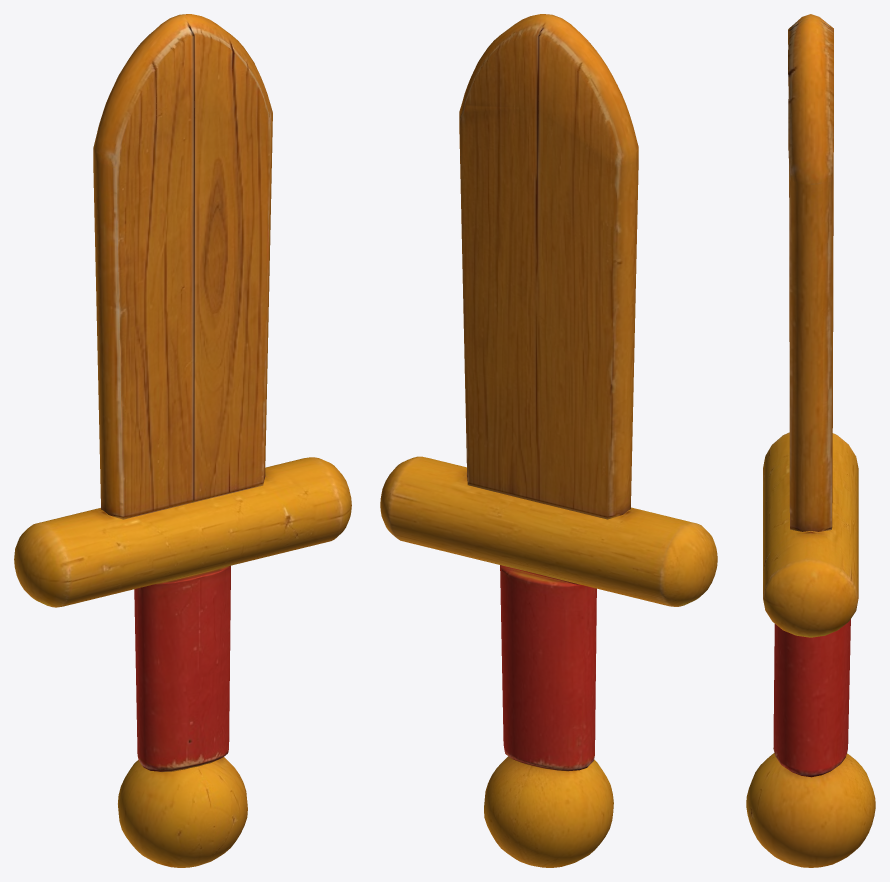
Rendered from Weapon_Sword.glb.
The picture shows the model from 3 angles, left to right: view 1: azimuth 30°, elevation 25°; view 2: azimuth 150°, elevation 25°; view 3: azimuth 270°, elevation 25°; orthographic projection.
Visible parts, largest first — view 1: tripo_node_90511045-d478-4fc6-9107-dfd66b8fd8fb; view 2: tripo_node_90511045-d478-4fc6-9107-dfd66b8fd8fb; view 3: tripo_node_90511045-d478-4fc6-9107-dfd66b8fd8fb.
Boxes of the visible parts, x1,y1,x2,y2 form: tripo_node_90511045-d478-4fc6-9107-dfd66b8fd8fb: (14,14,351,867); tripo_node_90511045-d478-4fc6-9107-dfd66b8fd8fb: (380,14,717,867); tripo_node_90511045-d478-4fc6-9107-dfd66b8fd8fb: (746,14,875,867).
Bounding box in the file's own units: 0.397 × 0.9995 × 0.1392.
Materials: 1 (1 with a texture image).
